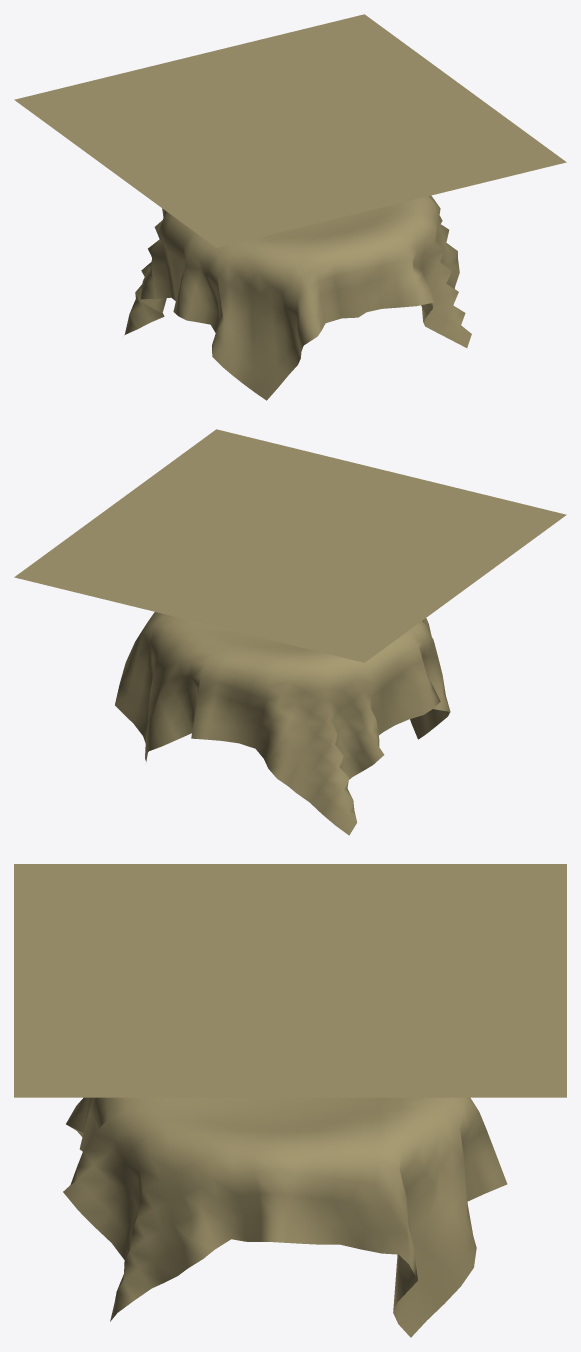
The model's file is TelaV1_CerrarVasija.fbx.
3 renders of one model, top to bottom at view 1: azimuth 30°, elevation 25°; view 2: azimuth 150°, elevation 25°; view 3: azimuth 270°, elevation 25°, orthographic. The views are drawn at different scales.
Visible parts, largest first — view 1: Plane.002, Plane.001; view 2: Plane.002, Plane.001; view 3: Plane.002, Plane.001.
Boxes of the visible parts, x1,y1,x2,y2 form: Plane.002: (14, 14, 566, 247); Plane.001: (124, 195, 471, 400); Plane.002: (14, 429, 566, 662); Plane.001: (115, 612, 450, 835); Plane.002: (14, 864, 566, 1097); Plane.001: (63, 1097, 507, 1337).
Size of the model in its own units: 0.6882 by 0.4155 by 0.6882.
